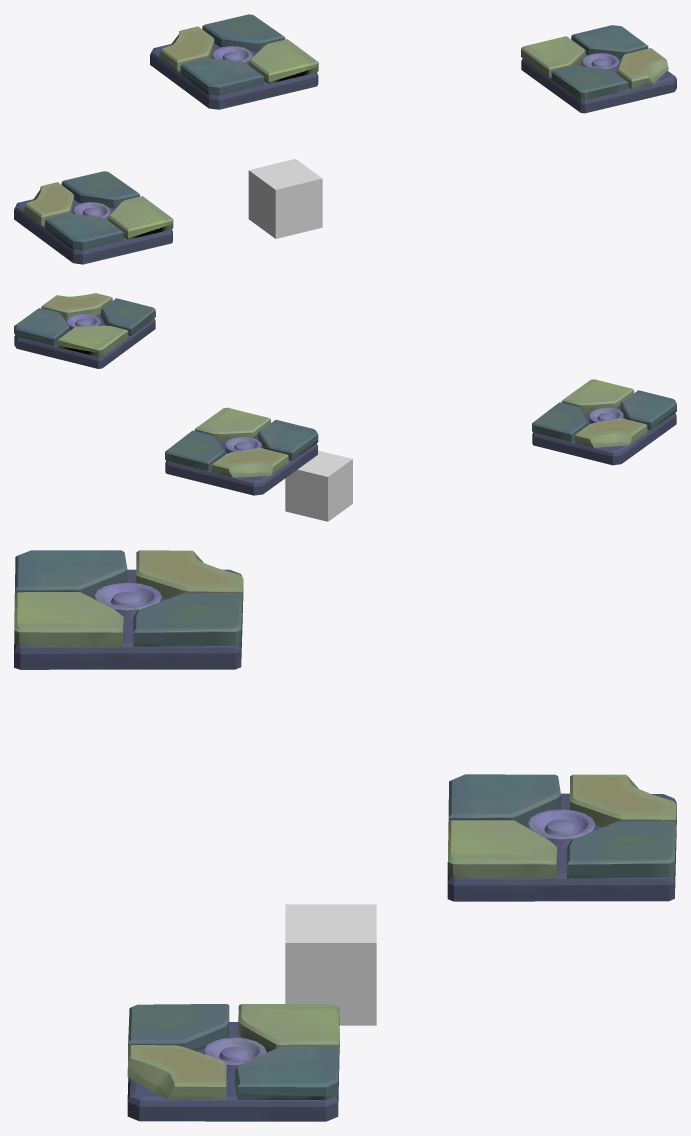
File: battlescence-4-floor002.fbx
The picture shows the model from 3 angles, top to bottom: view 1: azimuth 30°, elevation 25°; view 2: azimuth 150°, elevation 25°; view 3: azimuth 270°, elevation 25°; orthographic projection. The views are drawn at different scales.
Parts seen in each view (by area): view 1: Cube.083, Cube.081, Cube.068, battlescence-4-floor002; view 2: Cube.083, Cube.081, Cube.068, battlescence-4-floor002; view 3: Cube.083, Cube.081, Cube.068, battlescence-4-floor002.
Boxes of the visible parts, x1,y1,x2,y2 form: Cube.083: (150, 14, 318, 109); Cube.081: (14, 171, 173, 264); Cube.068: (521, 25, 676, 113); battlescence-4-floor002: (248, 159, 322, 238); Cube.083: (165, 407, 318, 495); Cube.081: (532, 379, 676, 465); Cube.068: (14, 293, 155, 368); battlescence-4-floor002: (285, 450, 352, 521); Cube.083: (447, 774, 676, 901); Cube.081: (14, 550, 243, 669); Cube.068: (127, 1004, 339, 1121); battlescence-4-floor002: (285, 904, 376, 1025).
Bounding box in the file's own units: 1683 × 311 × 897.
